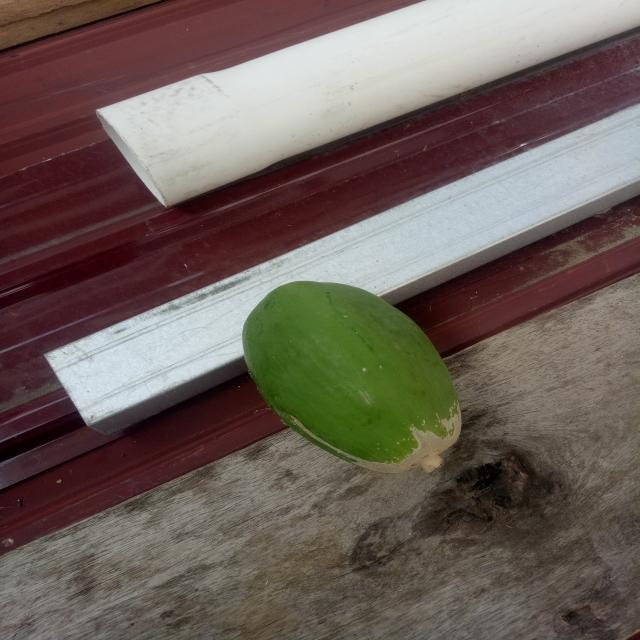Pepaya unrippen: (239, 273, 468, 477)
